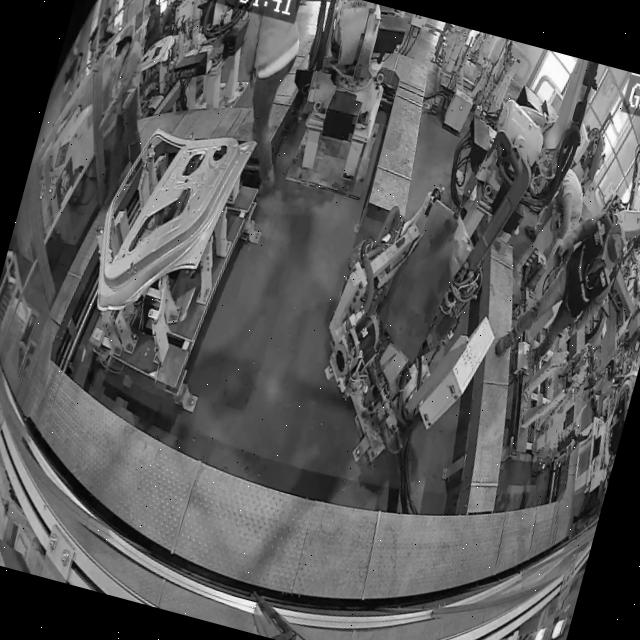Person: (492, 192, 630, 382), (203, 0, 325, 198), (74, 24, 158, 207), (521, 160, 592, 254), (135, 0, 170, 57), (430, 21, 450, 63)
